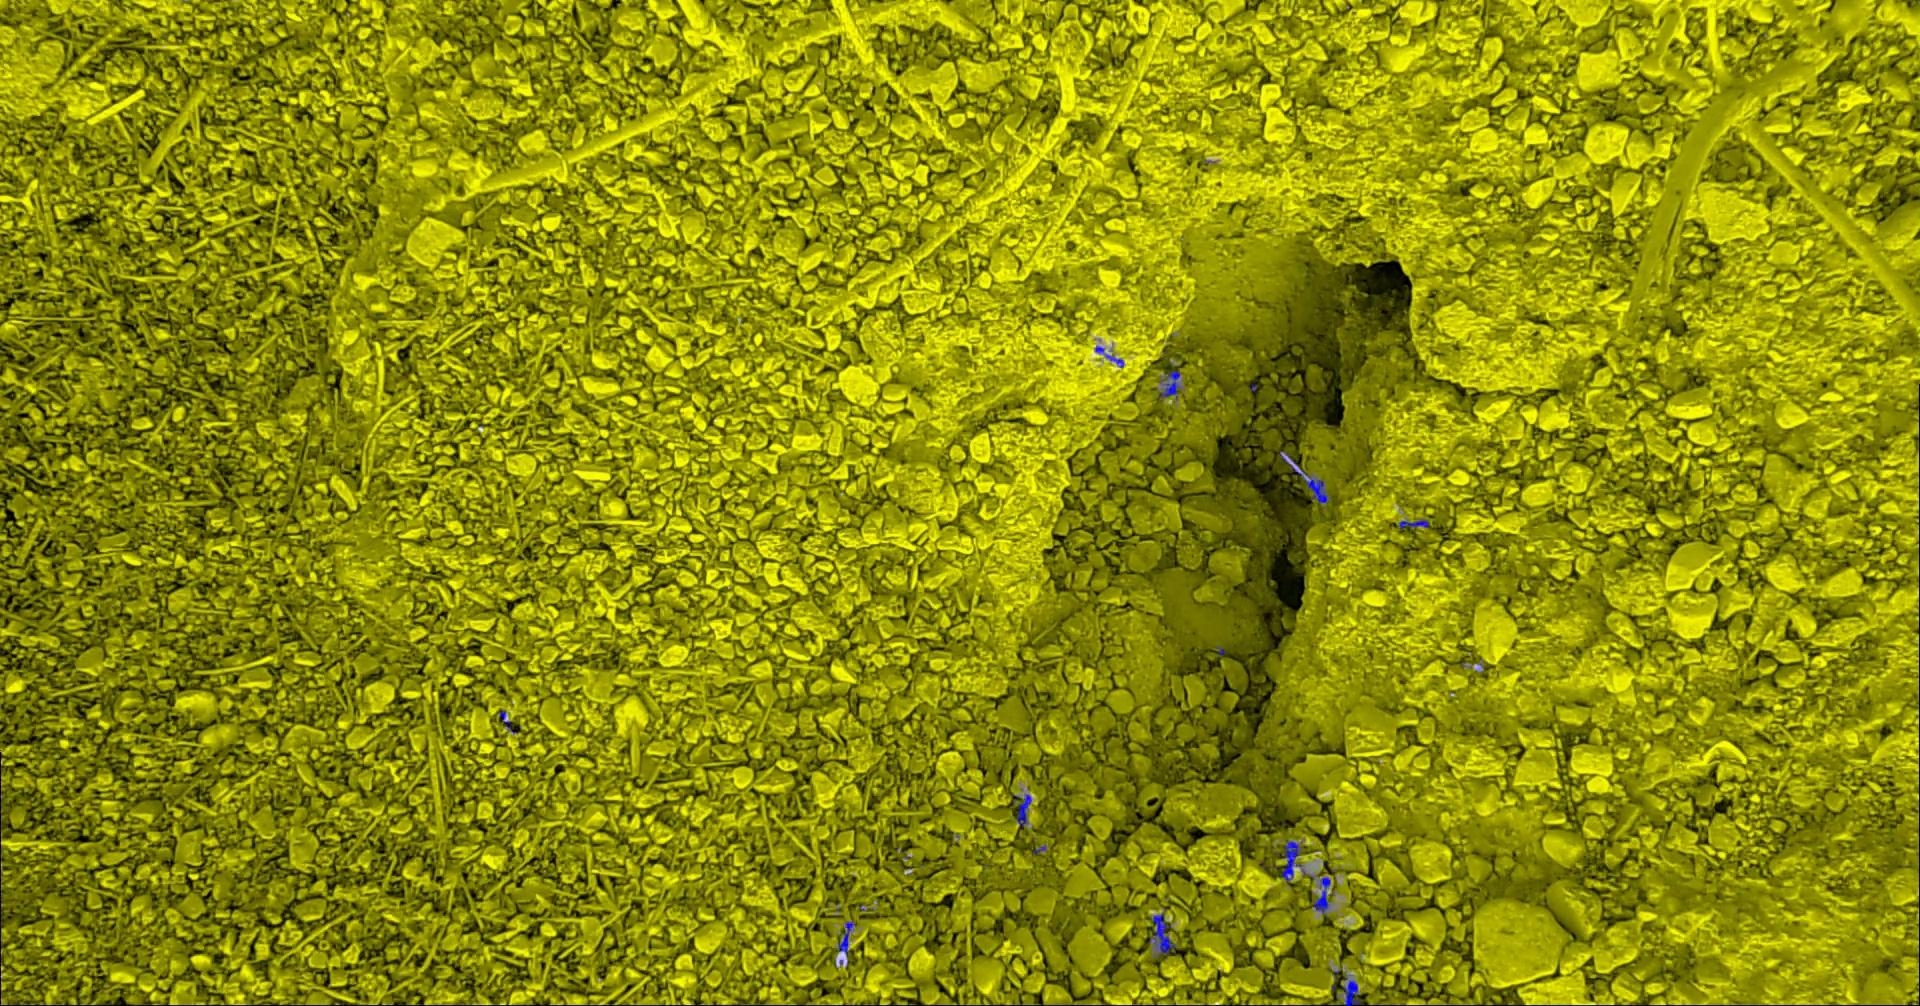ant: (1281, 450, 1331, 503), (1150, 912, 1177, 956), (1283, 840, 1303, 882), (1314, 876, 1336, 915), (1337, 974, 1363, 1005), (839, 921, 857, 956), (1161, 370, 1182, 399), (1015, 793, 1032, 826), (500, 710, 518, 732), (1399, 520, 1430, 528)
